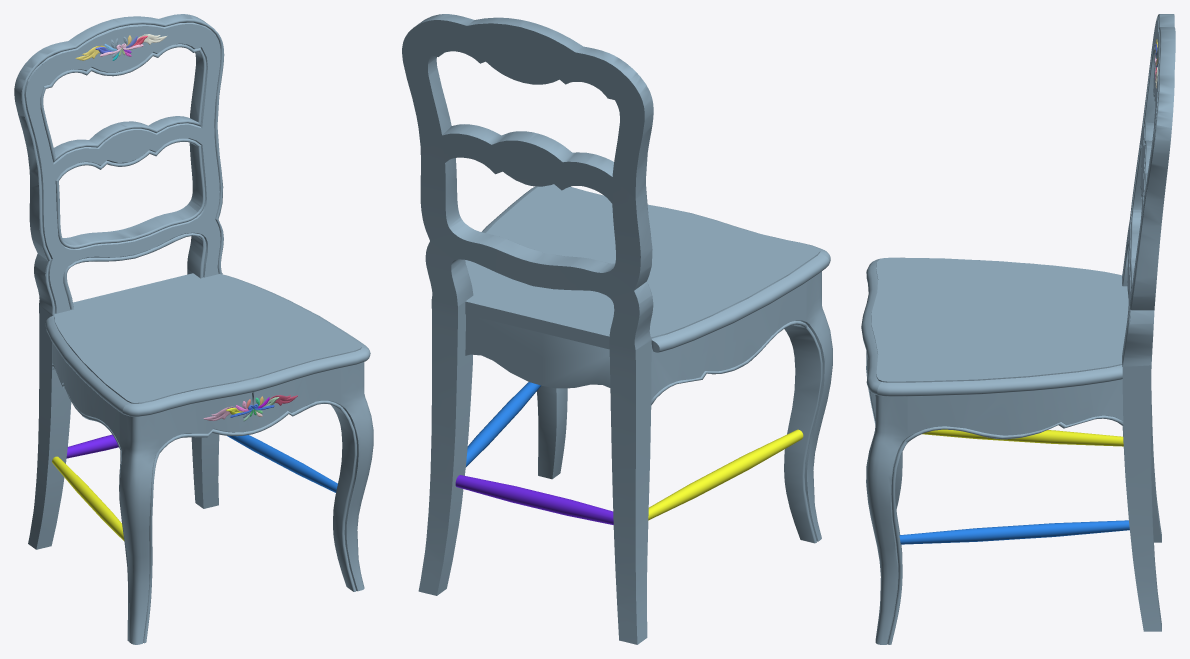
3 renders of one model, left to right at view 1: azimuth 30°, elevation 25°; view 2: azimuth 150°, elevation 25°; view 3: azimuth 270°, elevation 25°, orthographic. The views are drawn at different scales.
Parts seen in each view (by area): view 1: split_parent_0, Object_2.249, Object_2.250, Object_2.251; view 2: split_parent_0, Object_2.251, Object_2.250, Object_2.249; view 3: split_parent_0, Object_2.249, Object_2.250.
Part boxes in pixels (left/top/right/bottom): split_parent_0: left=14, top=14, right=373, bottom=644; Object_2.249: left=227, top=435, right=337, bottom=492; Object_2.250: left=52, top=456, right=124, bottom=540; Object_2.251: left=66, top=434, right=118, bottom=458; split_parent_0: left=402, top=14, right=832, bottom=644; Object_2.251: left=455, top=475, right=613, bottom=524; Object_2.250: left=648, top=429, right=803, bottom=520; Object_2.249: left=465, top=382, right=540, bottom=467; split_parent_0: left=861, top=14, right=1175, bottom=644; Object_2.249: left=899, top=520, right=1129, bottom=544; Object_2.250: left=922, top=429, right=1123, bottom=446.
Bounding box in the file's own units: 0.5222 × 1 × 0.5245.
